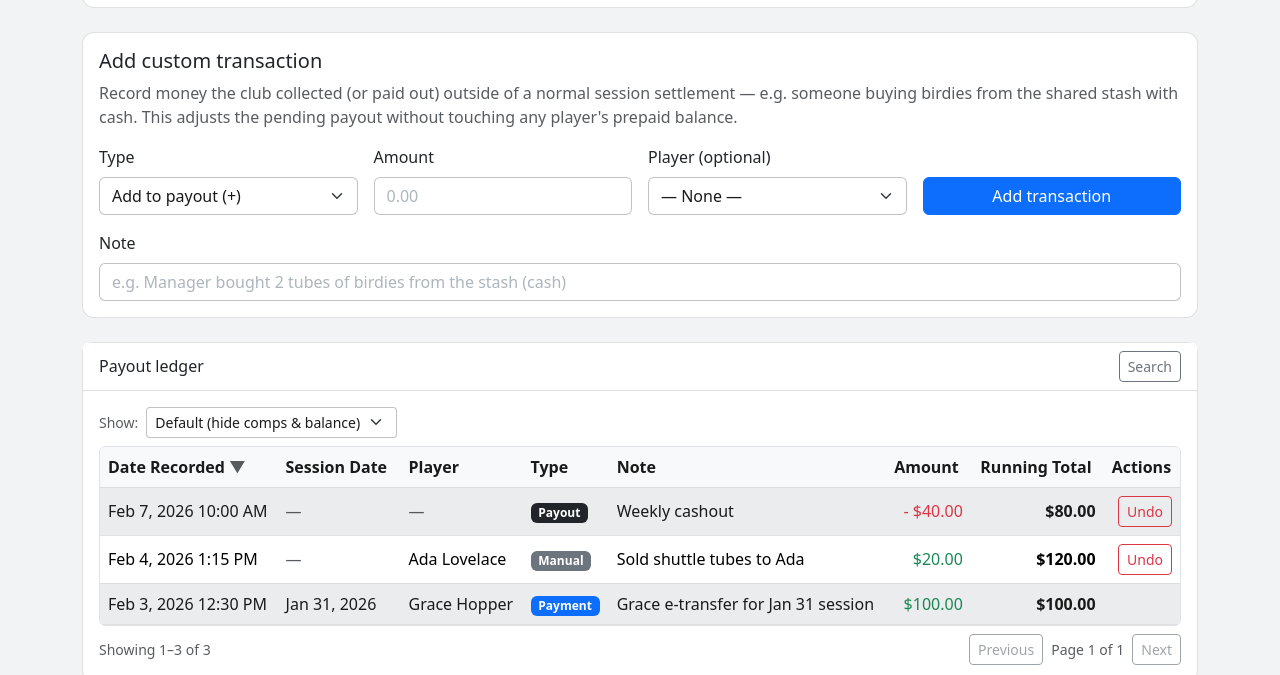
PayoutPage › filters the ledger by type view, including the default hidden comp/balance behavior
(page scrolled)
Expected: the text "Weekly cashout" is shown, [609,487,885,535]
Expected: the text "Grace paid owner directly" is not shown
Select "All types" in the dropdown showing "Default (hide comps & balance)" next to "Show:" at x=272, y=422, box [146,407,397,438]
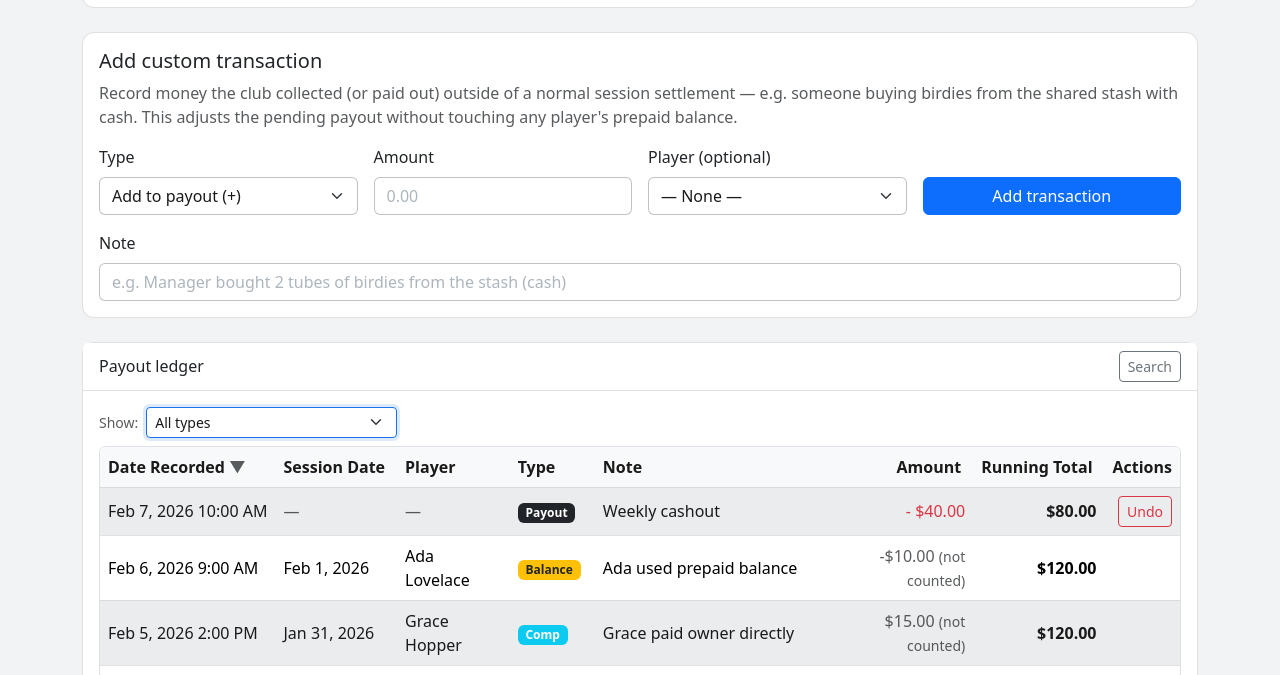
Result: the text "Grace paid owner directly" is shown at [595,600,825,665]
Result: the text "Ada used prepaid balance" is shown at [595,535,825,600]
Result: the text "(not counted)" is shown 2 times at [907,547,965,590]; [907,612,965,655]
Select "e-Transfer only" in the dropdown showing "Default (hide comps & balance)" next to "Show:" at x=272, y=422, box [146,407,397,438]
(page scrolled)
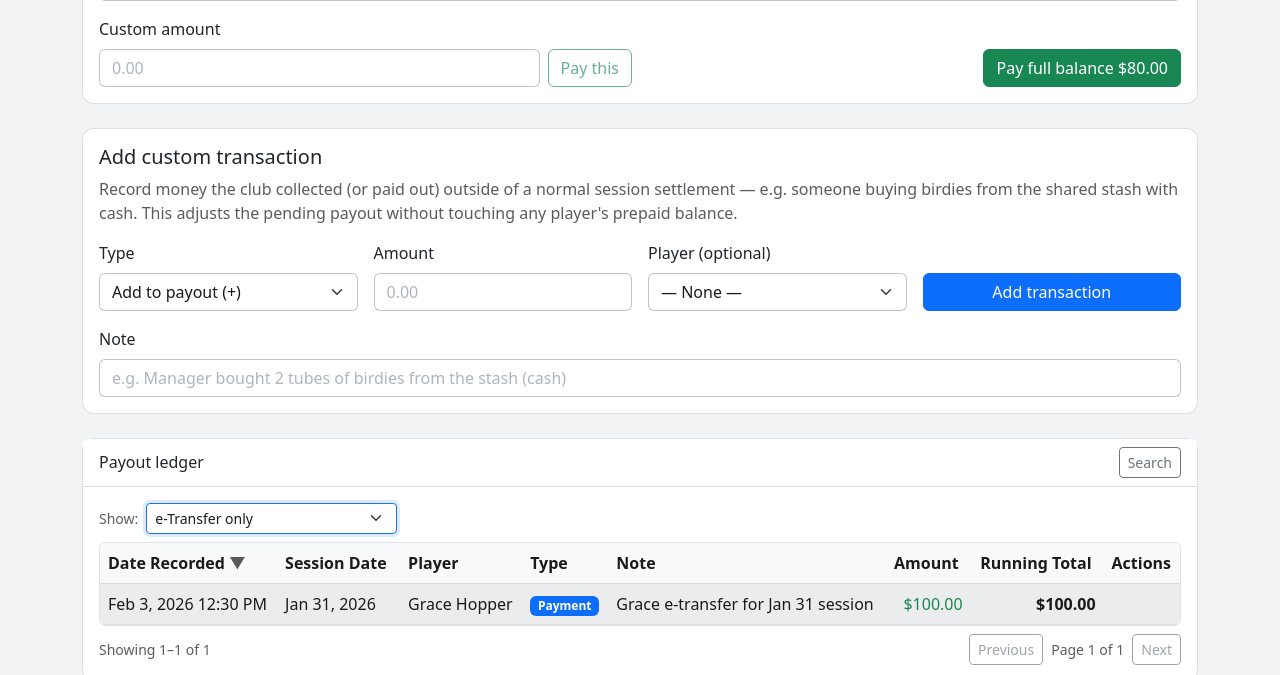
Expected: the text "Grace e-transfer for Jan 31 session" is shown, [608,583,885,624]
Result: the text "Weekly cashout" is gone
Select "Balance only" in the dropdown showing "Default (hide comps & balance)" next to "Show:" at x=272, y=518, box [146,503,397,534]
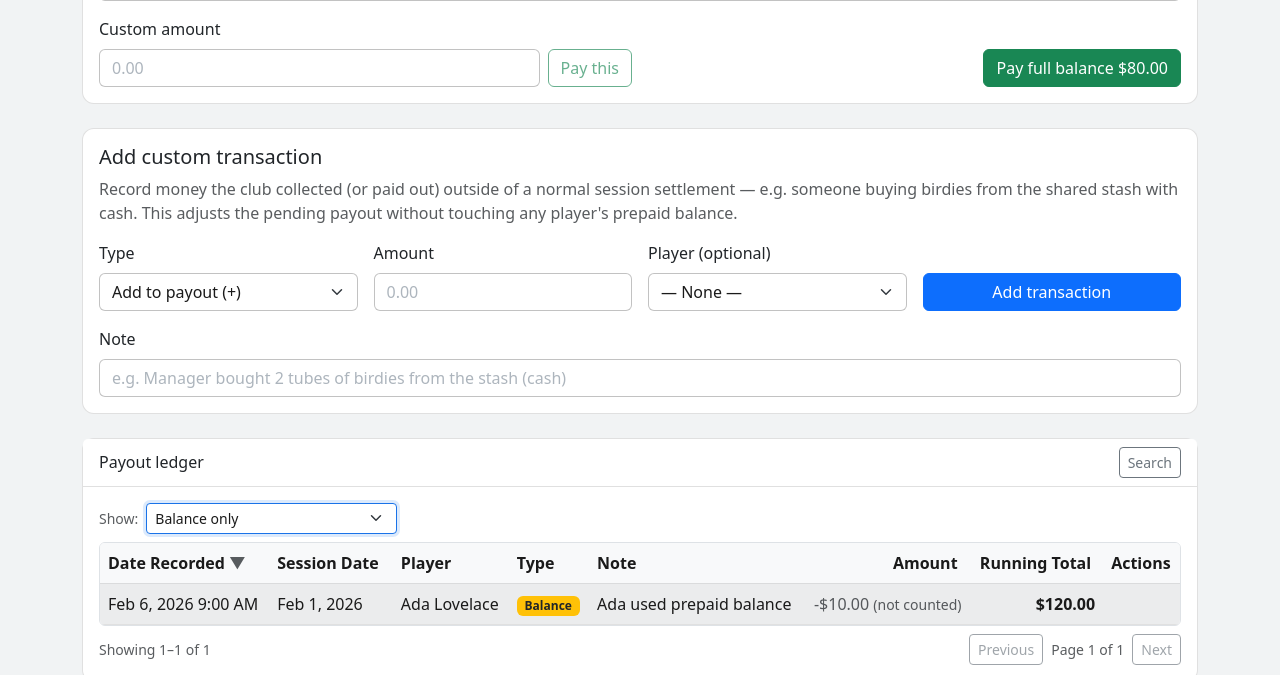
Expected: the text "Sold shuttle tubes to Ada" is not shown
Result: the text "Ada used prepaid balance" is shown at [589,583,803,624]
Select "Comp only" in the dropdown showing "Default (hide comps & balance)" next to "Show:" at x=272, y=518, box [146,503,397,534]
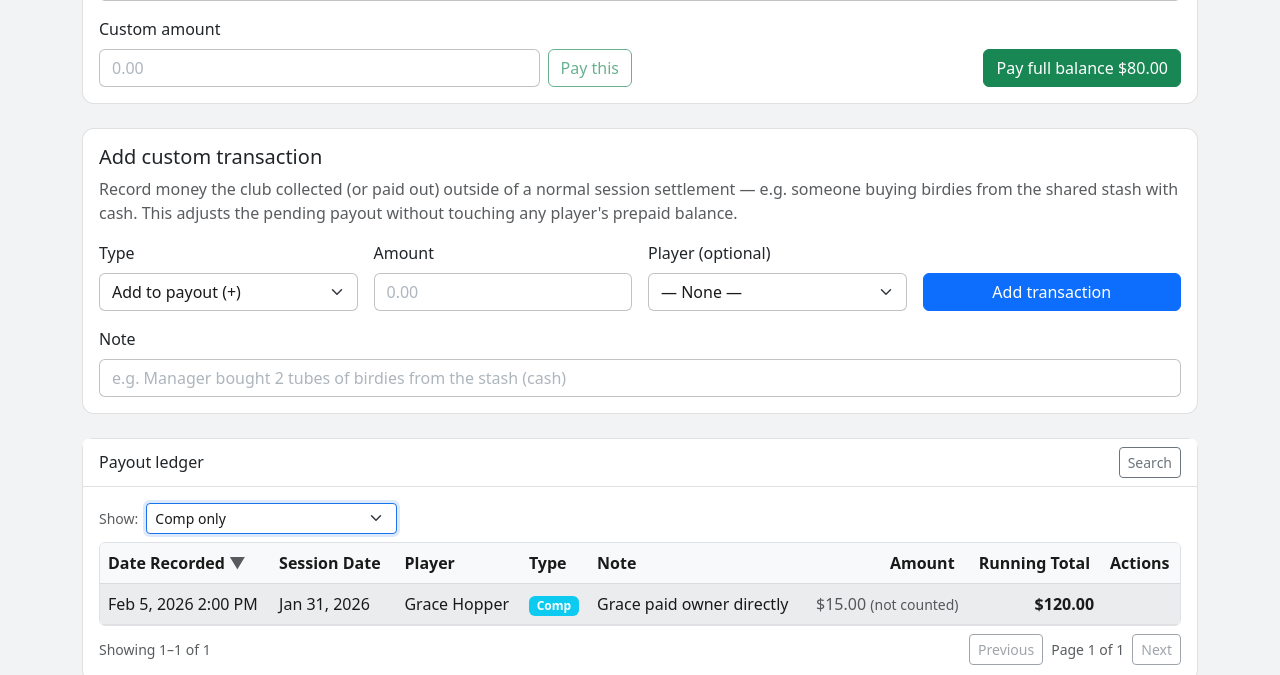
Expected: the text "Grace e-transfer for Jan 31 session" is not shown
Result: the text "Grace paid owner directly" is shown at [589,583,803,624]
Select "Manual only" in the dropdown showing "Default (hide comps & balance)" next to "Show:" at x=272, y=518, box [146,503,397,534]
(page scrolled)
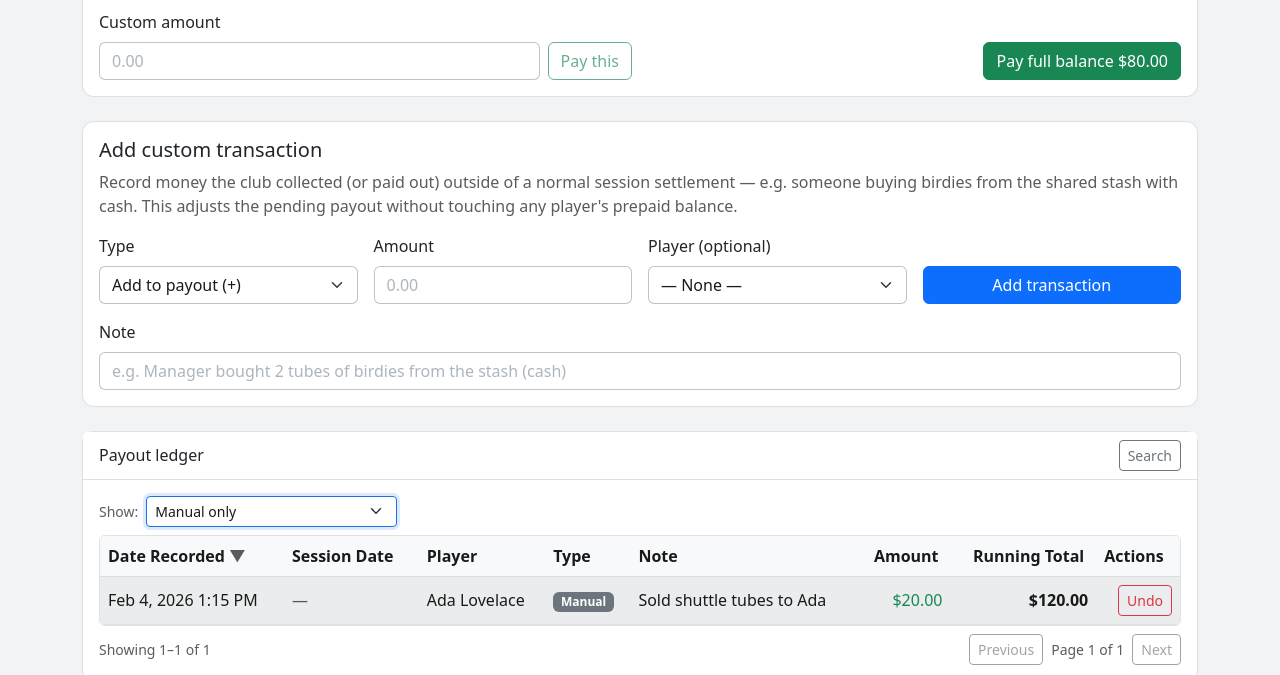
Expected: the text "Ada used prepaid balance" is not shown
Result: the text "Sold shuttle tubes to Ada" is shown at [630,576,857,624]
Select "Payouts only" in the dropdown showing "Default (hide comps & balance)" next to "Show:" at x=272, y=511, box [146,496,397,527]
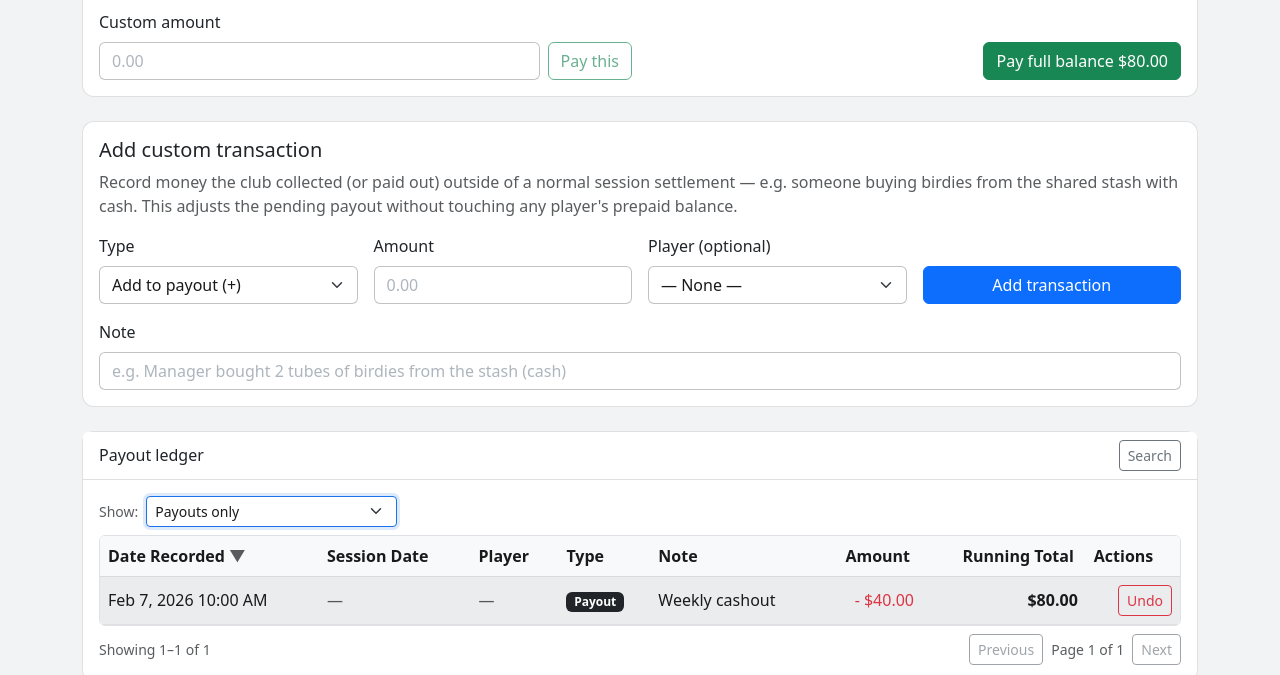
Expected: the text "Grace paid owner directly" is not shown
Result: the text "Weekly cashout" is shown at [650,576,816,624]
